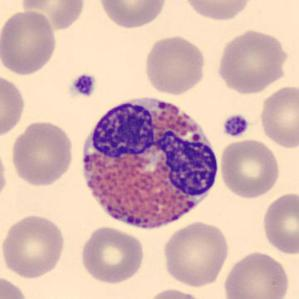Eosinophil: (72, 88, 225, 239)
Platelets: (69, 72, 98, 100), (221, 112, 251, 138)
RBC: (214, 27, 291, 95), (160, 219, 231, 288), (8, 118, 76, 188), (0, 211, 67, 280), (142, 33, 208, 95), (78, 225, 146, 285), (0, 8, 59, 77), (218, 138, 282, 199), (221, 248, 291, 299), (257, 83, 298, 150), (259, 190, 298, 256), (20, 0, 87, 33), (95, 0, 168, 29), (0, 70, 28, 140), (180, 0, 255, 22), (144, 286, 209, 299), (0, 273, 31, 299), (0, 141, 9, 208)
